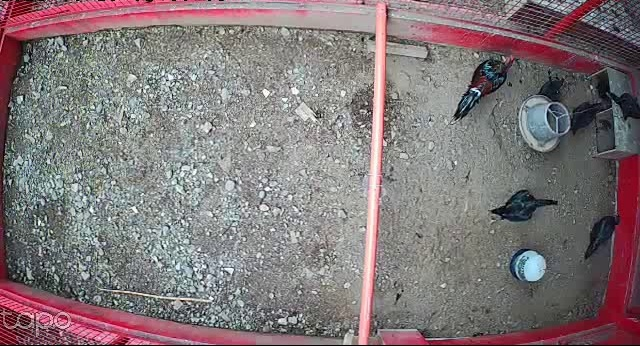Chicken: (487, 186, 561, 227), (580, 211, 621, 262), (603, 84, 640, 127), (569, 100, 605, 140), (537, 77, 566, 101)
Drinker: (508, 248, 548, 283)
Feeder: (519, 93, 572, 153)
Rooster: (451, 52, 517, 123)
